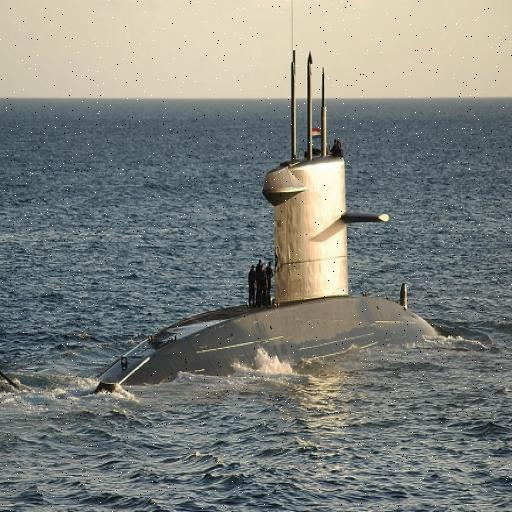submarine: (95, 33, 451, 396)
